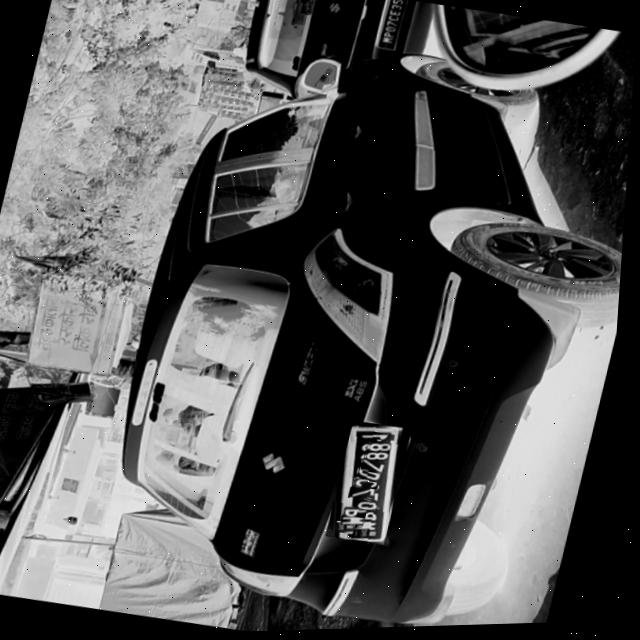0: (355, 495, 381, 511)
1: (378, 432, 402, 444)
7: (357, 486, 384, 502), (367, 458, 392, 475)
8: (372, 450, 395, 464), (375, 441, 397, 454)
C: (360, 478, 386, 492)
D: (363, 467, 390, 483)
IND: (344, 521, 363, 535)
Indian_registered: (349, 427, 405, 541)
M: (347, 513, 373, 529)
P: (351, 505, 375, 520)
